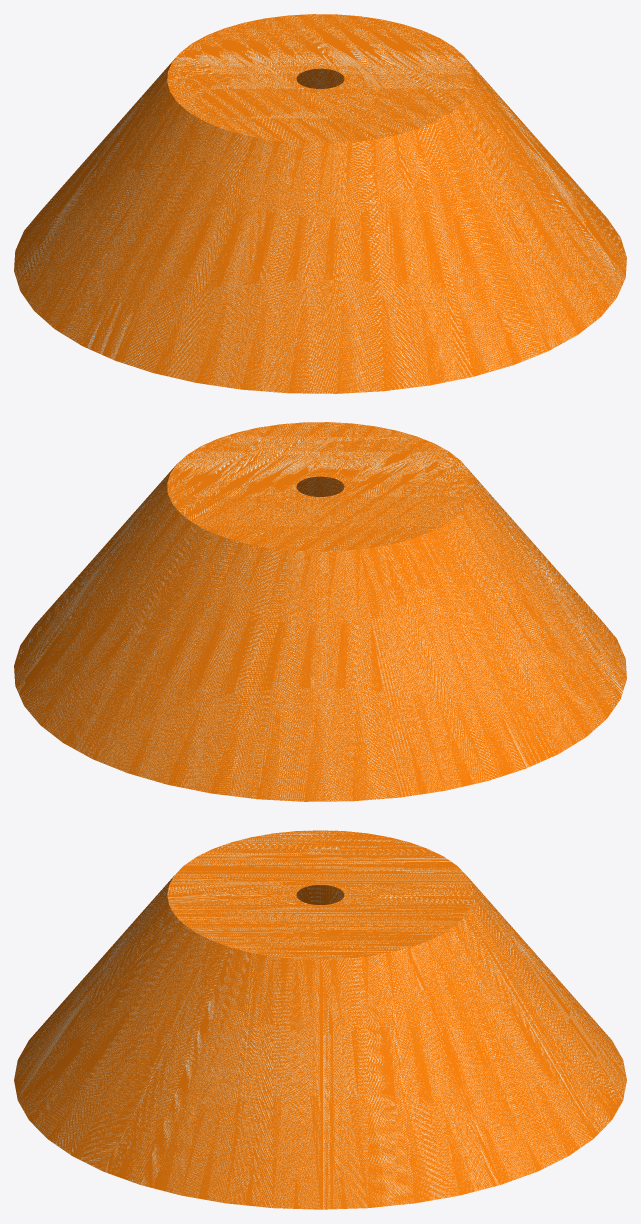
Rendered from original-7.obj.
The picture shows the model from 3 angles, top to bottom: view 1: azimuth 30°, elevation 25°; view 2: azimuth 150°, elevation 25°; view 3: azimuth 270°, elevation 25°; orthographic projection.
Parts seen in each view (by area): view 1: mesh21/mesh21-geometry#mesh21-geometry; view 2: mesh21/mesh21-geometry#mesh21-geometry; view 3: mesh21/mesh21-geometry#mesh21-geometry.
Boxes of the visible parts, bbox=[...] form: mesh21/mesh21-geometry#mesh21-geometry: bbox=[14, 14, 626, 393]; mesh21/mesh21-geometry#mesh21-geometry: bbox=[14, 422, 626, 801]; mesh21/mesh21-geometry#mesh21-geometry: bbox=[14, 830, 626, 1209].
Bounding box in the file's own units: 0.5531 × 0.1844 × 0.5531.
